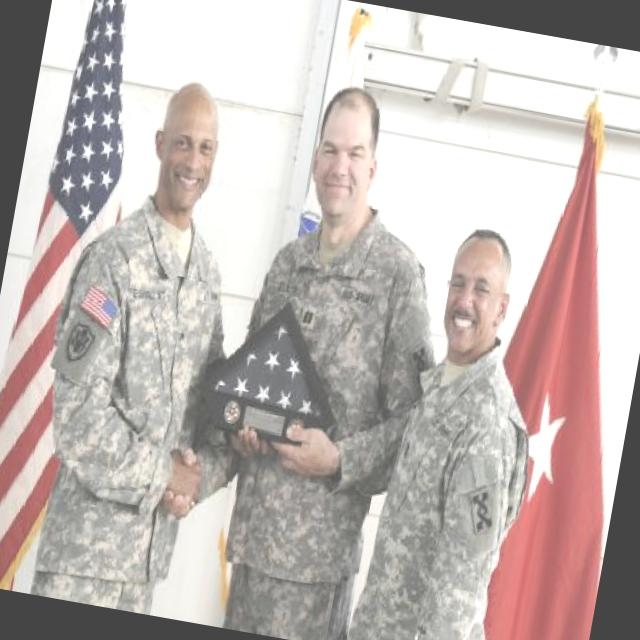Person: (143, 69, 481, 640), (9, 60, 334, 630), (340, 215, 575, 640)
